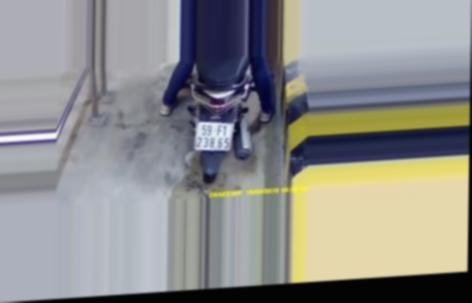License_Plate: (191, 118, 236, 157)
